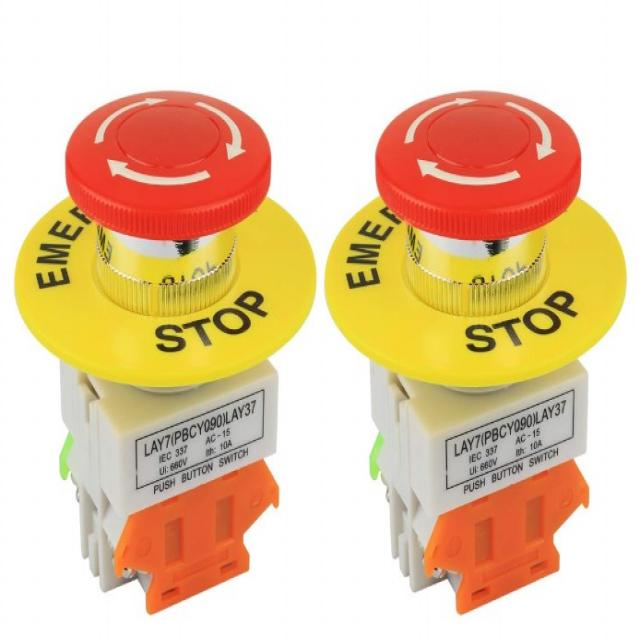safety switch: (325, 88, 631, 393), (16, 86, 316, 389)
